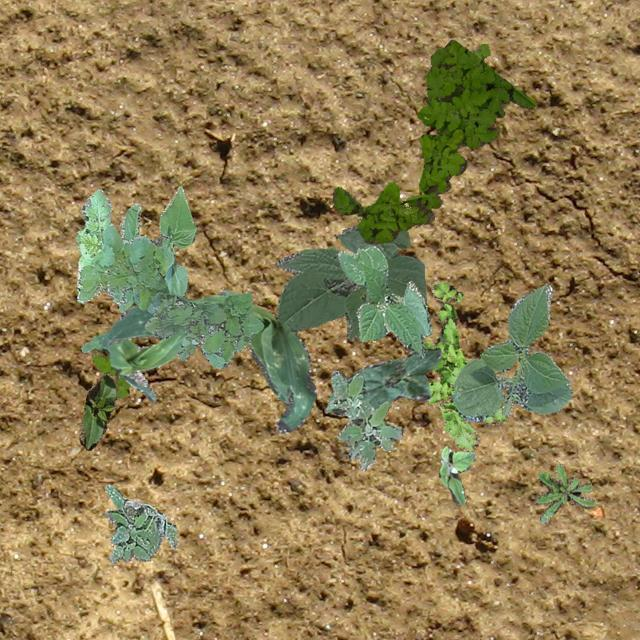crop: (98, 294, 316, 432), (275, 224, 425, 338), (452, 282, 572, 420), (80, 288, 226, 400), (336, 245, 430, 356), (118, 185, 196, 312), (325, 346, 441, 414), (77, 372, 116, 449)
weed: (332, 39, 536, 242), (75, 188, 262, 368), (422, 278, 508, 450), (328, 370, 402, 470), (104, 483, 176, 562), (534, 462, 594, 524), (438, 444, 474, 504), (91, 352, 129, 398), (470, 42, 490, 61)
